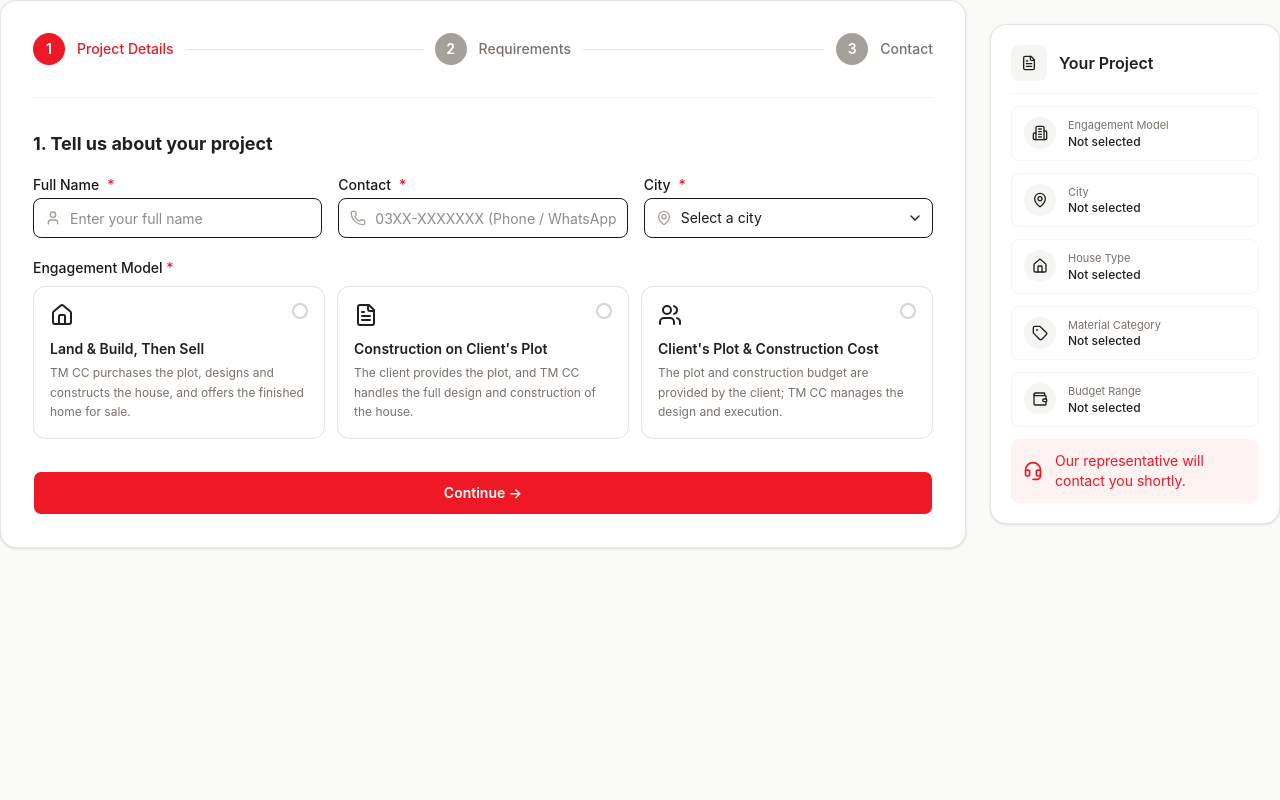
it: IntakeForm — wizard › does not leave step 1 until its required fields are valid (FR-4)
Click the button "Continue →" at (483, 492), box [33, 470, 933, 514]
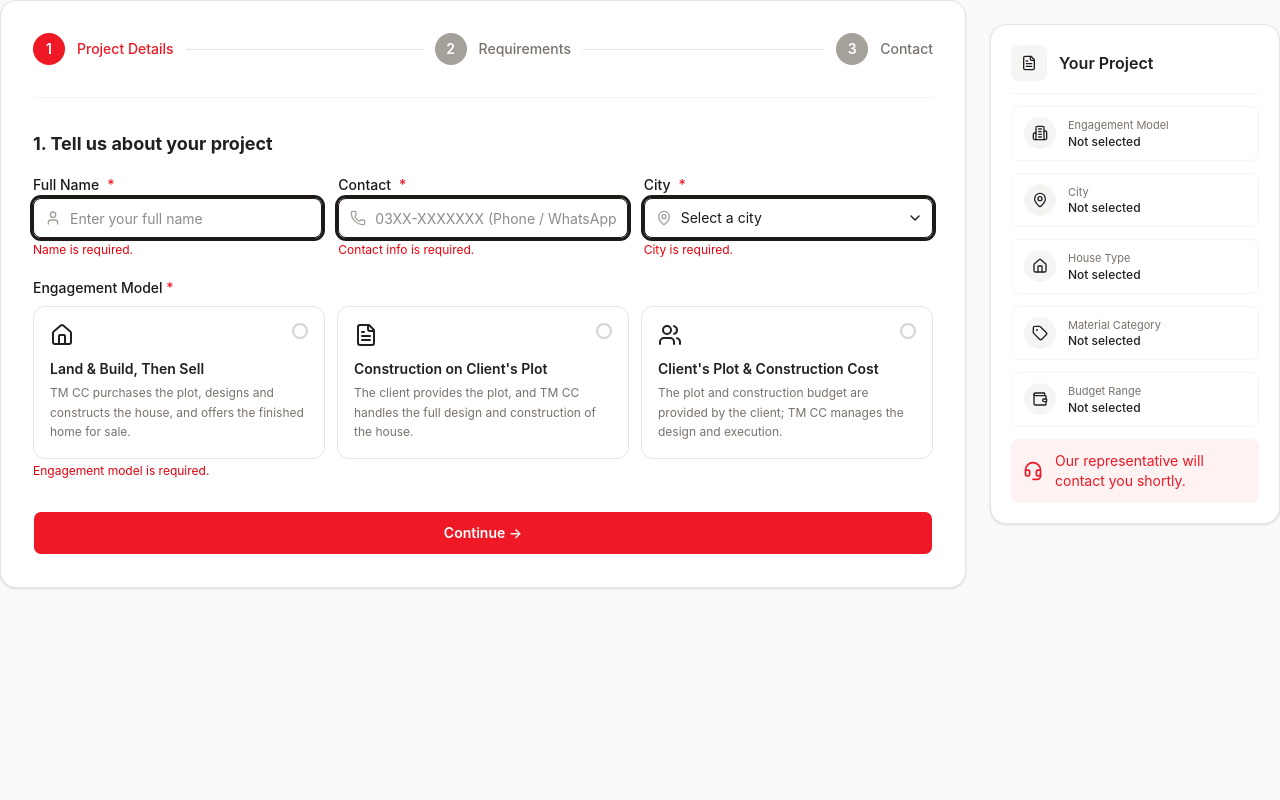
Check: the text "Name is required." is shown, box [33, 242, 133, 257]
Check: the text "City is required." is shown, box [644, 242, 733, 257]
Check: the text "Engagement model is required." is shown, box [33, 462, 209, 478]
